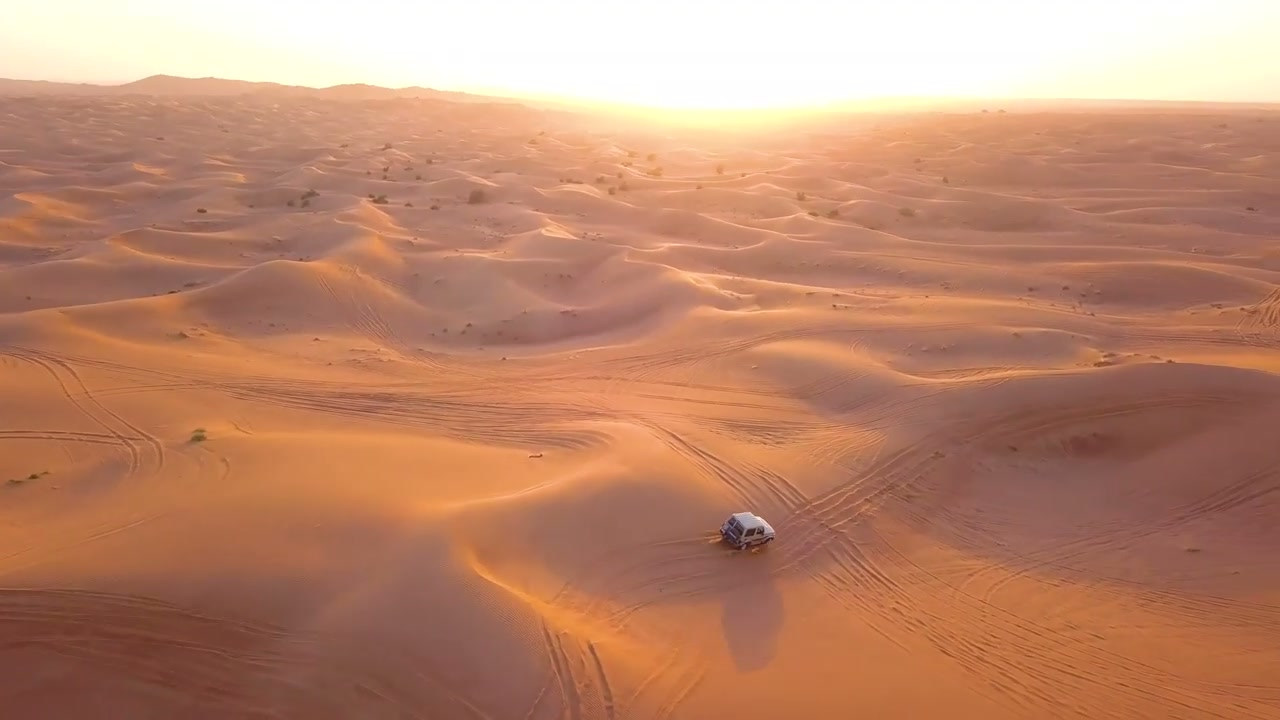vehicle_track: (775, 481, 1269, 717), (859, 524, 1268, 719), (778, 395, 1240, 567), (0, 588, 490, 719), (90, 361, 615, 448), (769, 413, 1028, 574), (984, 458, 1279, 599), (0, 589, 299, 711), (216, 382, 611, 448), (1006, 554, 1279, 643), (0, 346, 165, 475), (549, 533, 767, 630), (524, 620, 704, 719), (317, 274, 483, 377), (605, 325, 902, 379), (648, 423, 805, 511), (965, 393, 1245, 442), (541, 622, 616, 719), (624, 649, 705, 719), (685, 415, 829, 446), (1235, 286, 1279, 348), (0, 430, 119, 446)
